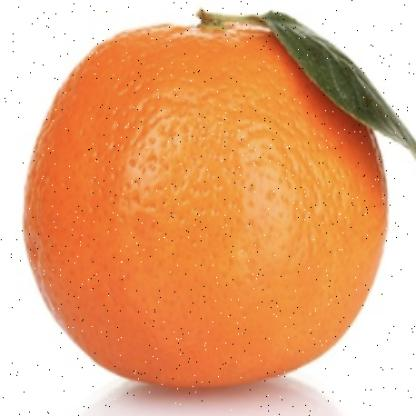fresh: (22, 19, 388, 384)
